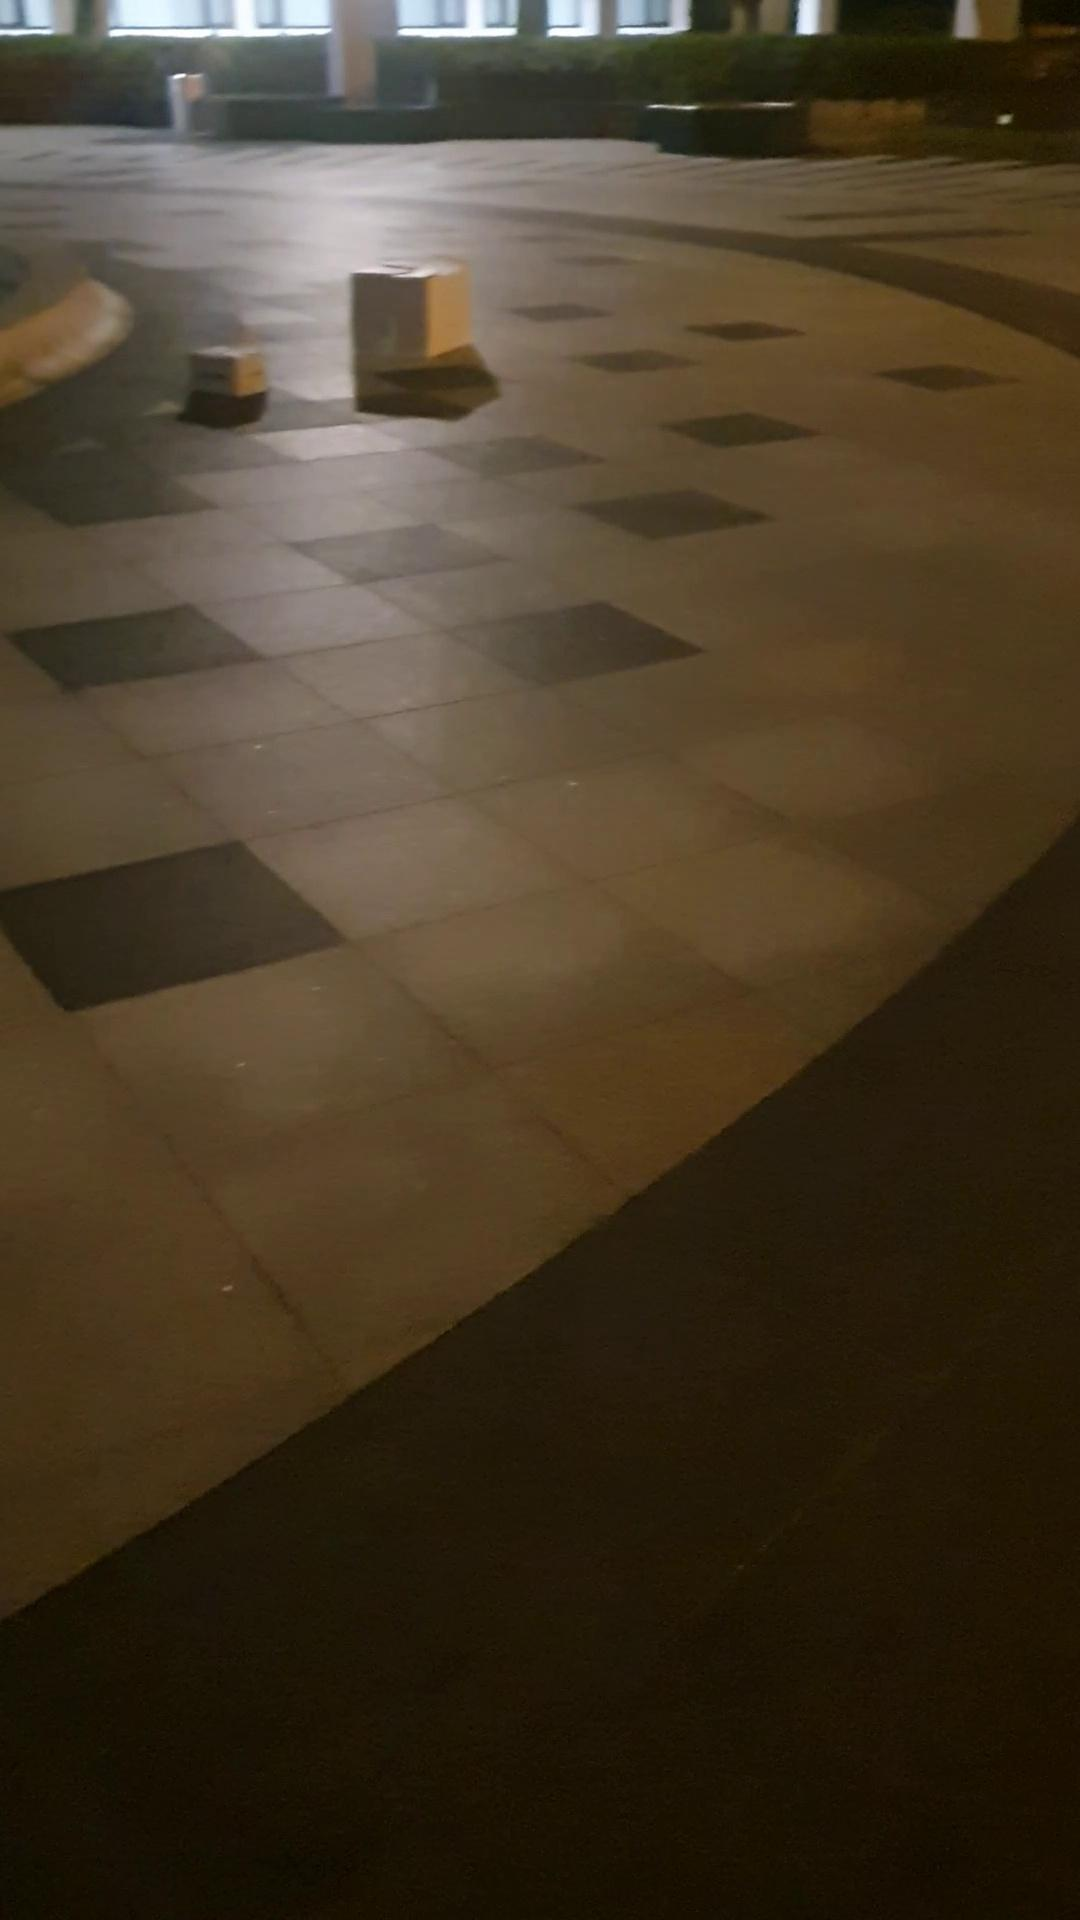Box: (345, 255, 477, 394), (171, 330, 280, 411)
